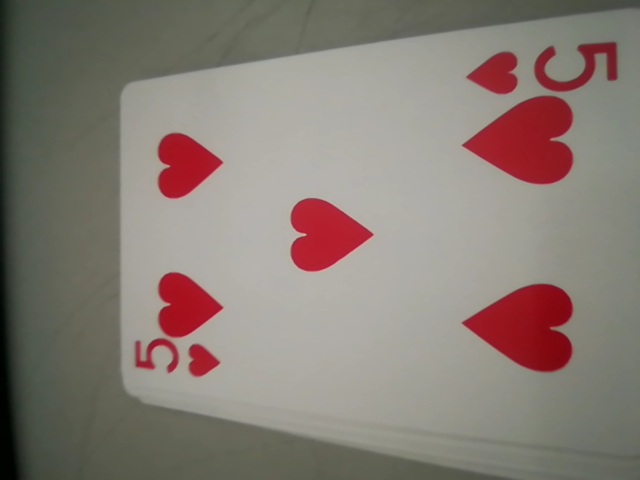hx 5: (466, 29, 622, 102), (126, 333, 227, 389)
